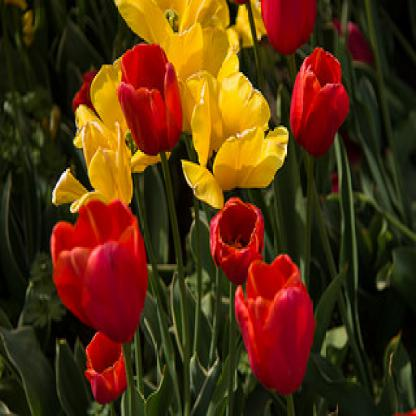TULIP: (48, 3, 351, 394)
